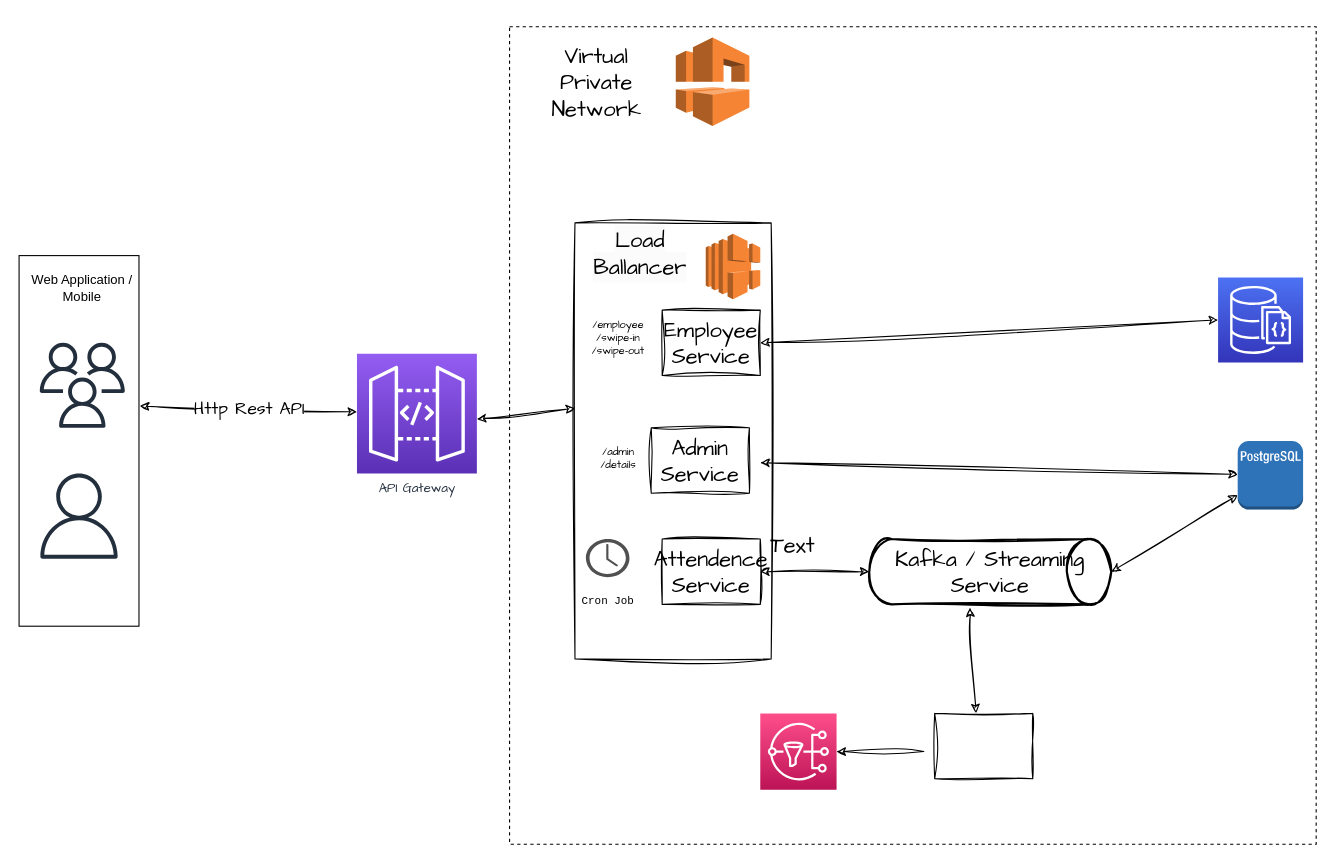
Image size: 1335x863. Some labels were removed from this diagram. The centre of each missing label's shape, as x and y in pixels:
"Admin" goes at [78,515].
"Employees" goes at [81,384].
"Notification Service" goes at [983,745].
